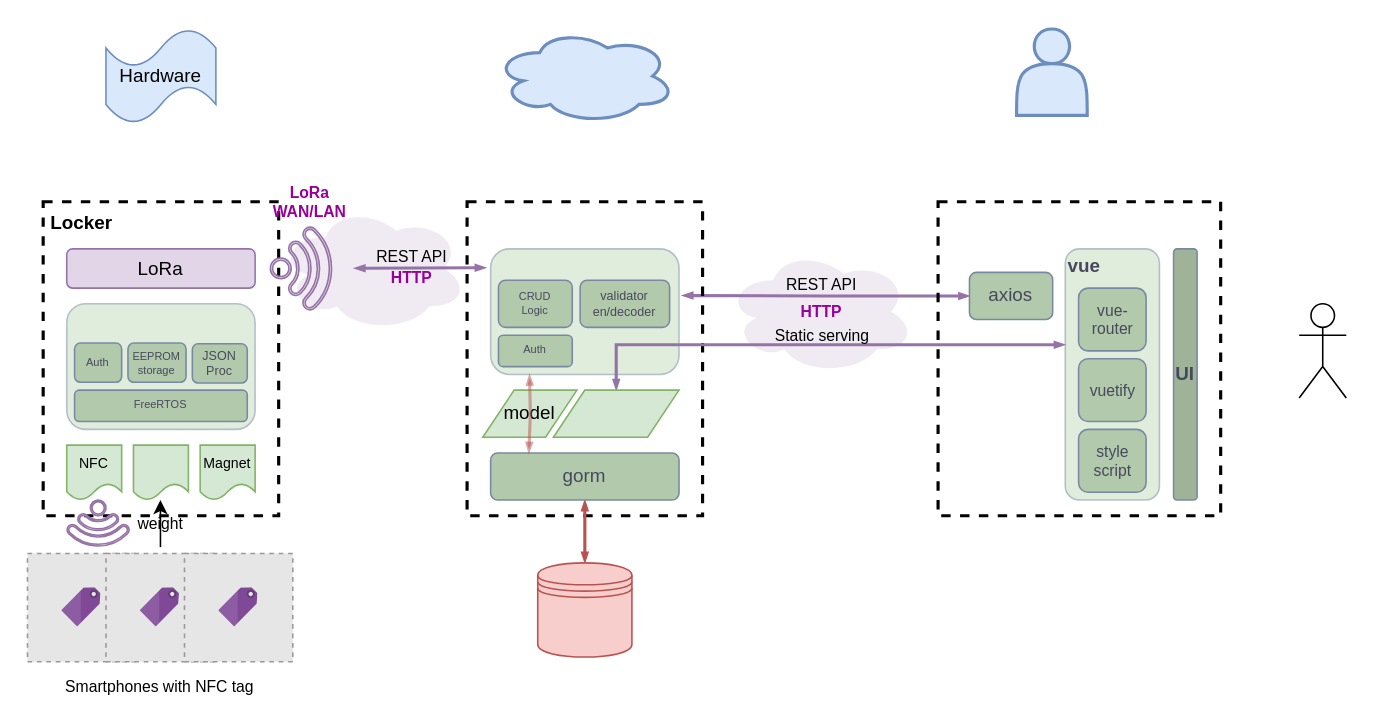
The diagram is 1393 pixels wide and 725 high, and some of its shapes have lost their labels. Grey dashed boxes stand in for pictures. The shapes that lost their labels are listed below. From the top down, each one's box as (x1, y1, x2, y2) in pixels, then its label:
(492, 27, 676, 124): Server
(1014, 27, 1088, 116): End user
(489, 247, 679, 374): Echo
(65, 302, 255, 429): Arduino mega
(465, 199, 703, 517): Golang
(936, 199, 1221, 517): Browser
(1298, 302, 1346, 398): Authorized User with Web supporting device
(552, 389, 679, 437): static resource
(132, 444, 188, 500): FSR
(536, 561, 632, 657): RDBMS
